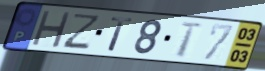7: (202, 22, 235, 62)
8: (134, 18, 163, 56)
H: (30, 8, 74, 49)
T: (175, 21, 204, 60), (106, 16, 135, 53)
Z: (60, 12, 104, 51)
